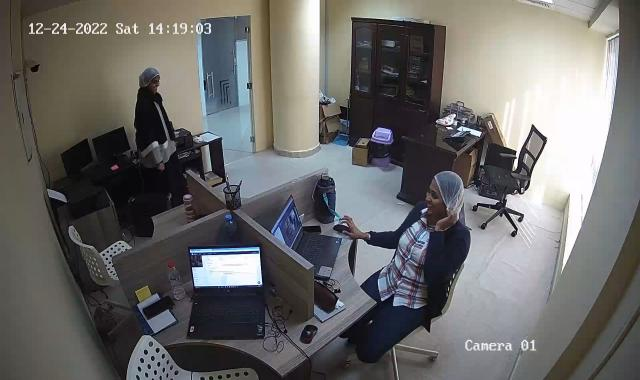hairnet: (426, 171, 466, 222), (136, 66, 162, 92)
